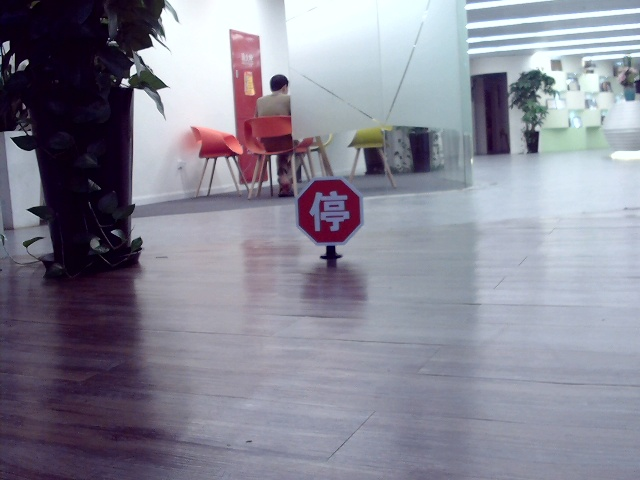stop: (307, 187, 350, 231)
